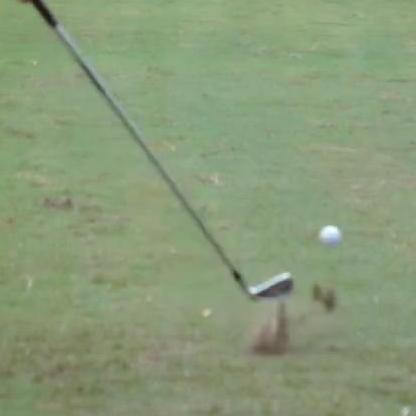golfball: (315, 222, 340, 246)
